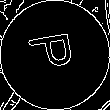P_E: (27, 32, 83, 78)
